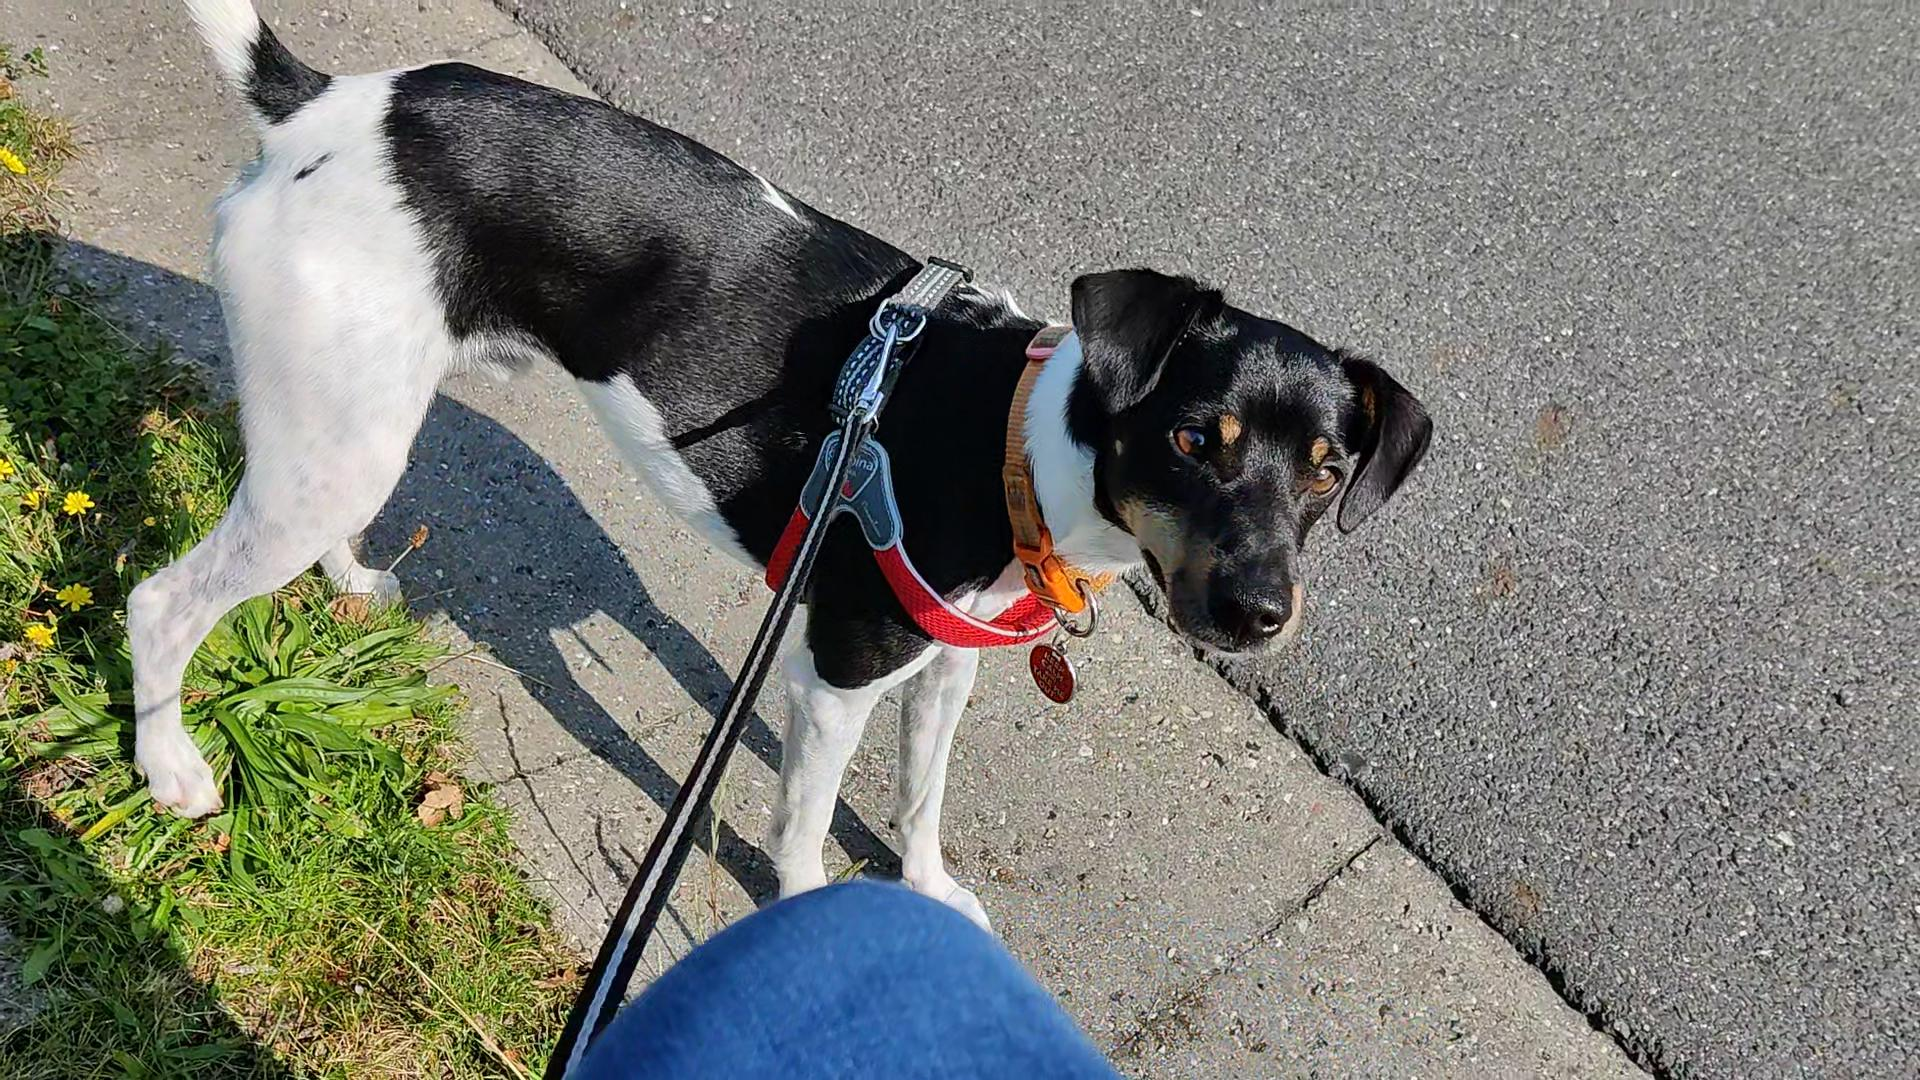Dog: (117, 0, 1460, 936)
